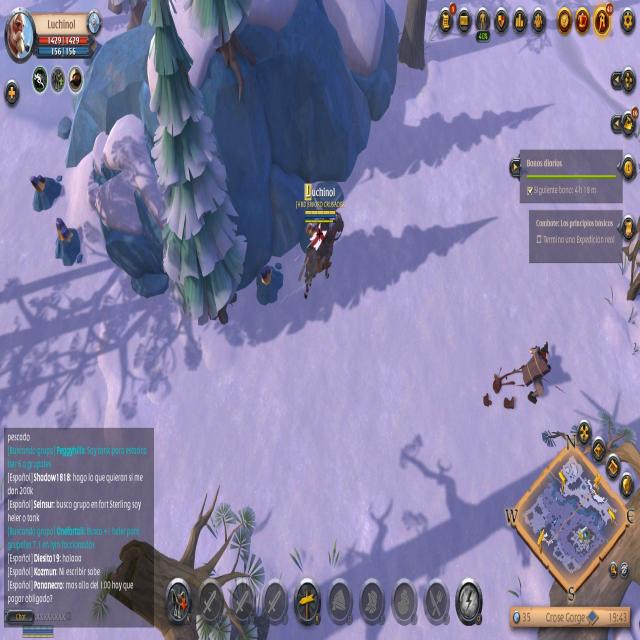piedra_cobre: (24, 165, 68, 214), (251, 258, 289, 314), (52, 218, 86, 268)
